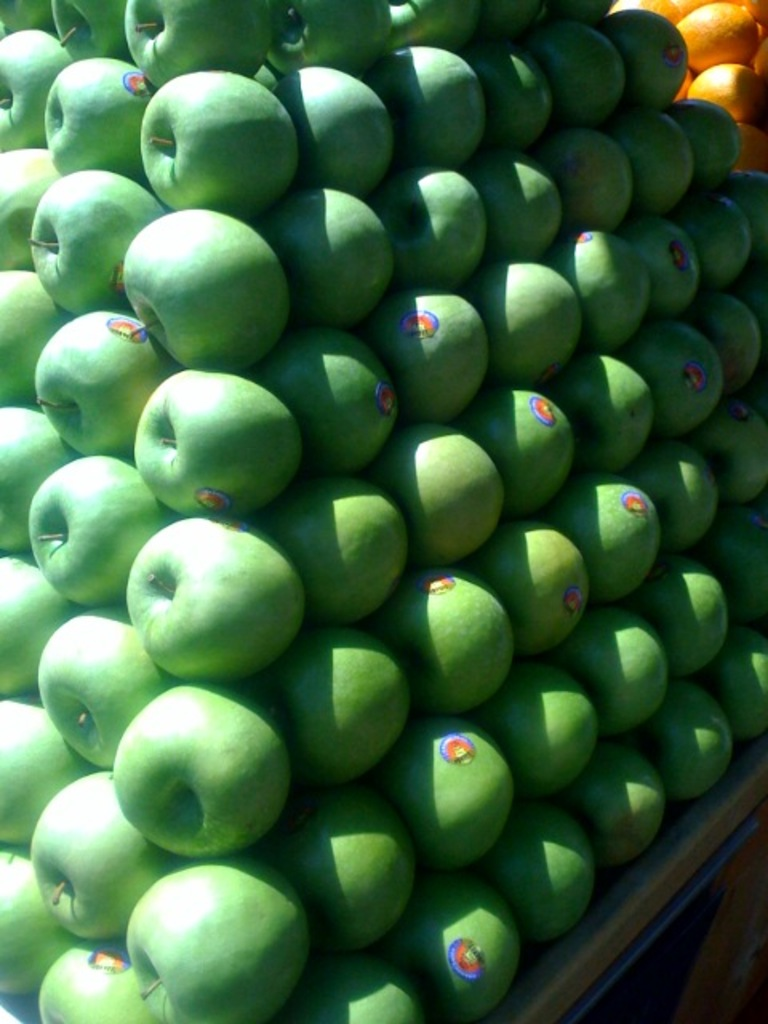Apple: (0, 0, 766, 1022)
